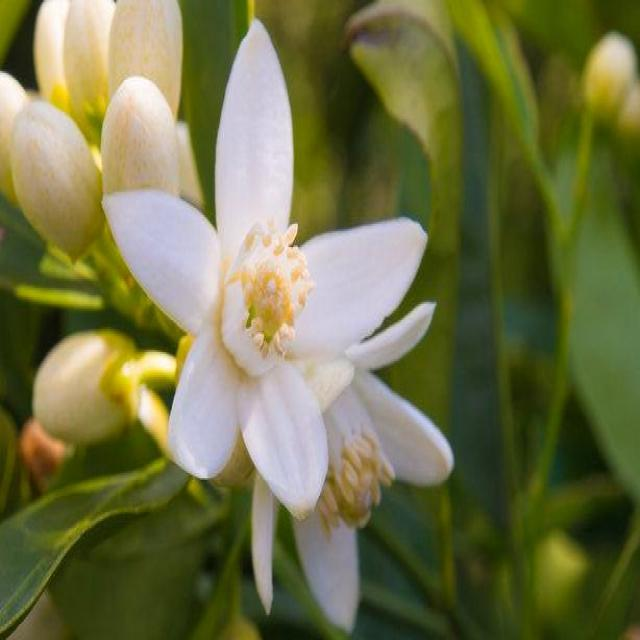Bunga: (100, 19, 435, 520), (248, 298, 456, 630), (102, 74, 186, 294), (14, 94, 108, 276), (29, 327, 142, 446), (110, 0, 187, 153), (66, 0, 130, 142), (1, 71, 48, 235), (583, 24, 640, 149), (34, 0, 81, 117)
